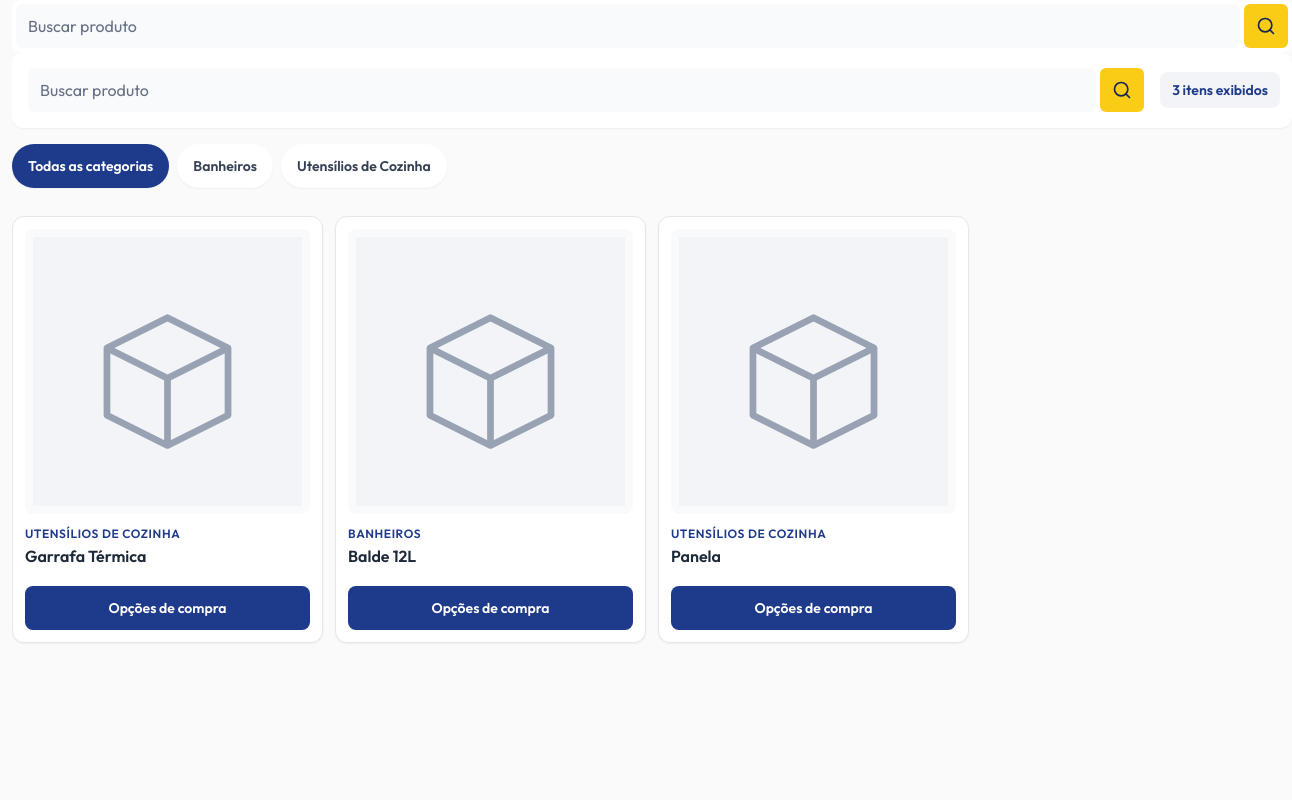
Test case: VitrineFilter › filters by the search typed in the showcase or in the header
Type "panela" into the search field named "Buscar produto na vitrine" at (562, 90), box 28,68 -> 1096,112
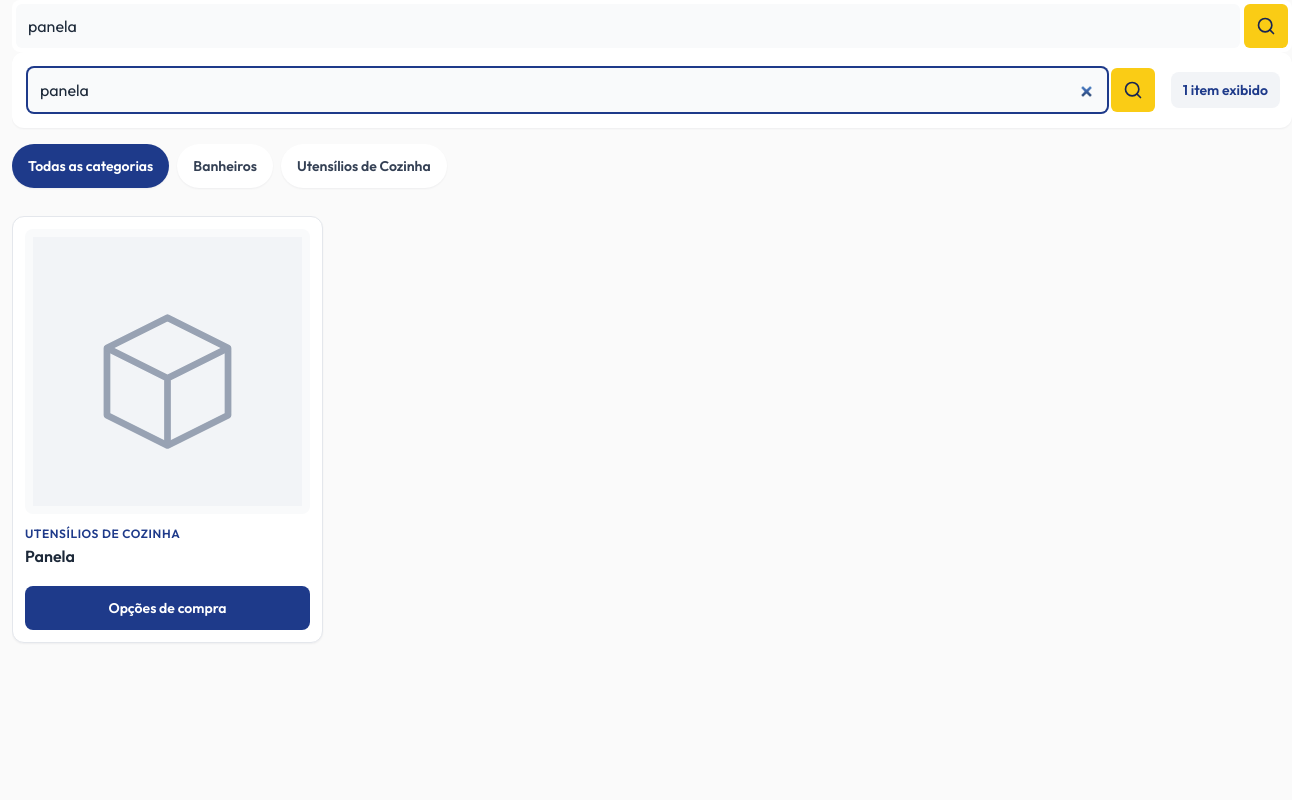
Replace the text in the 1st search field named "Buscar produto no cabeçalho" with "termica" at (628, 26), box 16,4 -> 1240,48
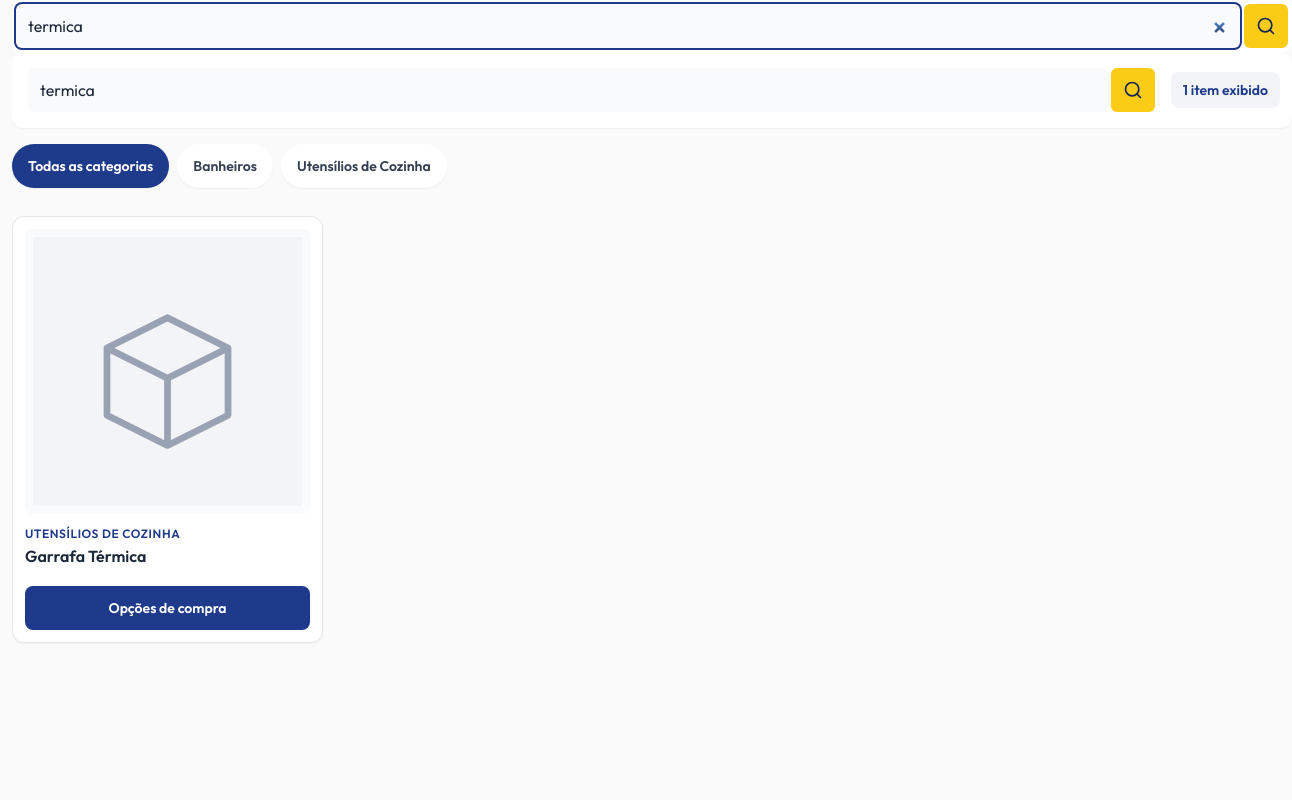
Result: the search field named "Buscar produto na vitrine" next to "1 item exibido" holds "termica" at 28,68 -> 1107,112
